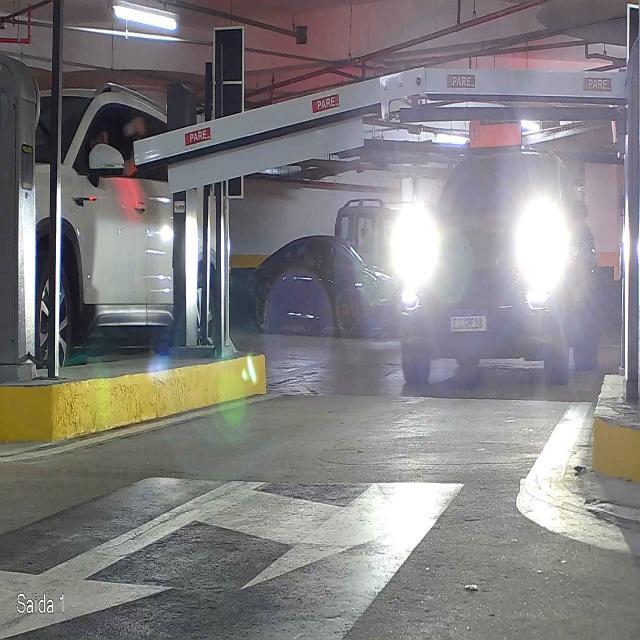mercosul_plate: (448, 309, 488, 334)
